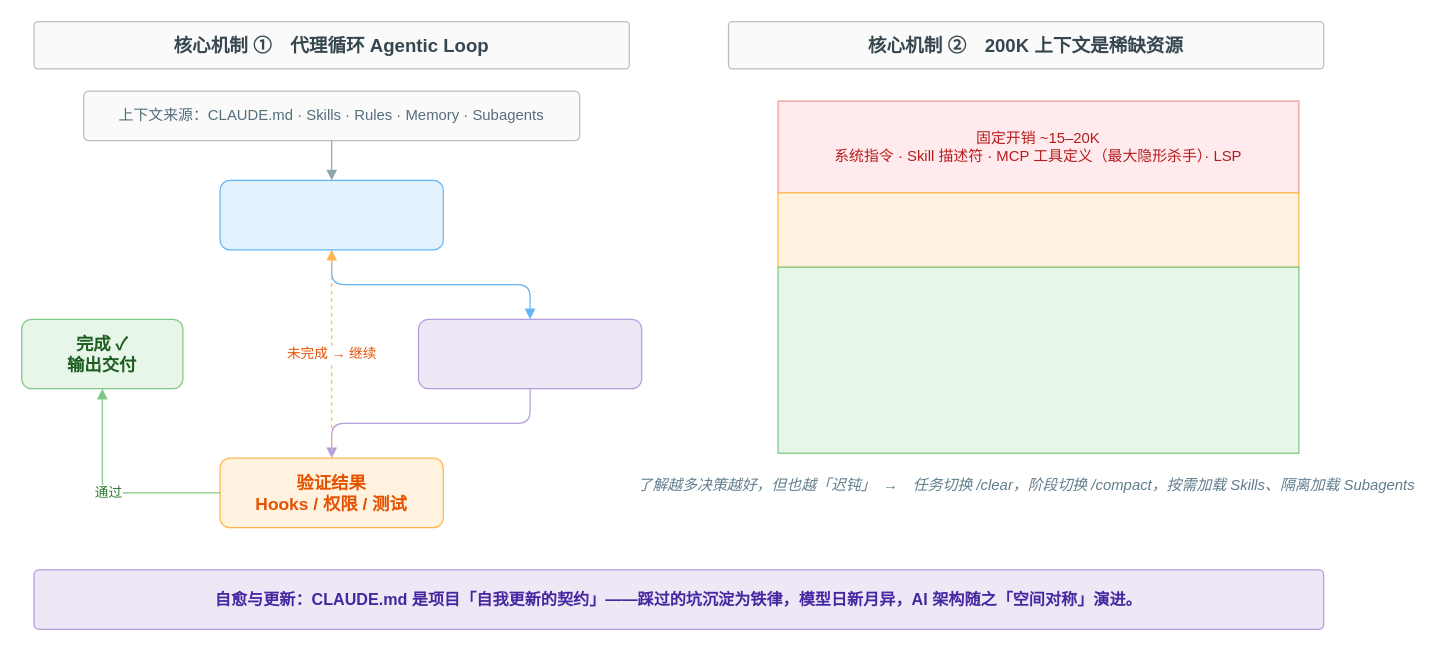
Some shapes in this 1436 by 651 pixel diagram are drawn without their labels. The shapes that lost their labels are listed below. From the top down, each one's centre as x and y in pixels, then its label:
At point (331, 214): "收集上下文".
At point (1038, 229): "半固定 ~5–10K CLAUDE.md · Memory".
At point (529, 353): "采取行动 Tools / MCP".
At point (1038, 359): "动态可用 ~160–180K 对话历史 · 文件内容 · 工具调用结果".
